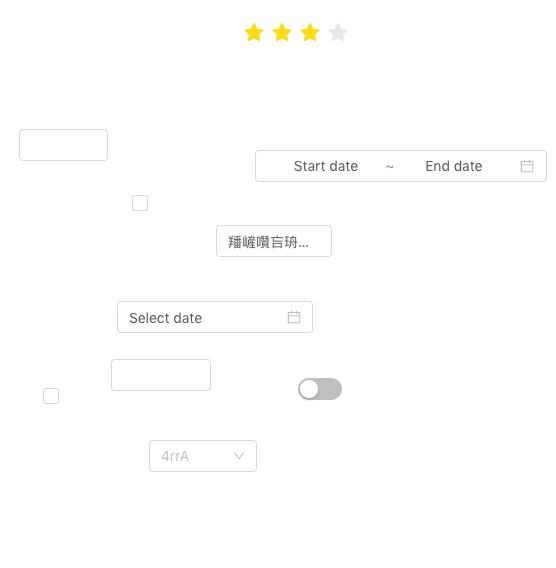Checkbox: (43, 385, 59, 406), (132, 192, 148, 213)
DatePicker: (117, 301, 313, 333)
Input: (216, 225, 332, 257), (111, 359, 211, 391), (19, 129, 108, 161)
RangePicker: (255, 150, 547, 182)
Rate: (244, 16, 364, 48)
Select: (149, 440, 257, 472)
Switch: (298, 377, 342, 401)
